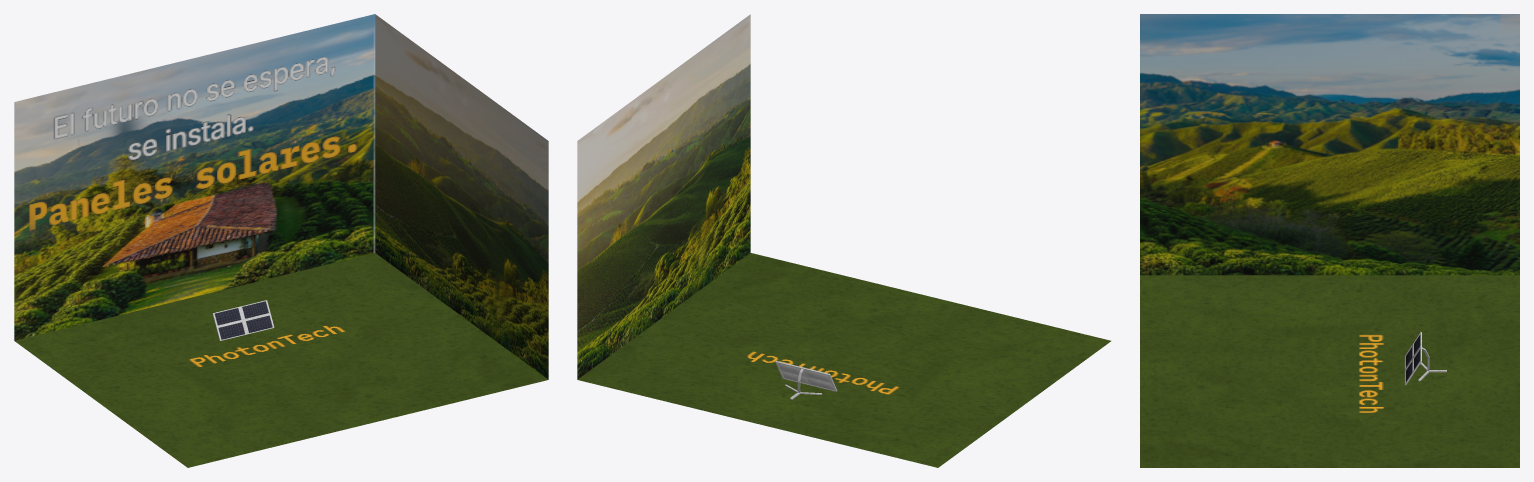
The model's file is panel2.glb.
3 renders of one model, left to right at view 1: azimuth 30°, elevation 25°; view 2: azimuth 150°, elevation 25°; view 3: azimuth 270°, elevation 25°, orthographic. The views are drawn at different scales.
Parts seen in each view (by area): view 1: Fondo (×2), Panel (×2); view 2: Fondo (×2), Panel; view 3: Fondo (×2), Panel.
Boxes of the visible parts, x1,y1,x2,y2 form: Fondo (×2): [14, 14, 548, 467]; Panel (×2): [212, 300, 274, 340]; Fondo (×2): [577, 14, 1110, 467]; Panel: [775, 361, 837, 399]; Fondo (×2): [1140, 14, 1519, 467]; Panel: [1404, 332, 1446, 385].
Bounding box in the file's own units: 3.19 × 2.02 × 2.66.
Materials: 4 (4 with a texture image).
